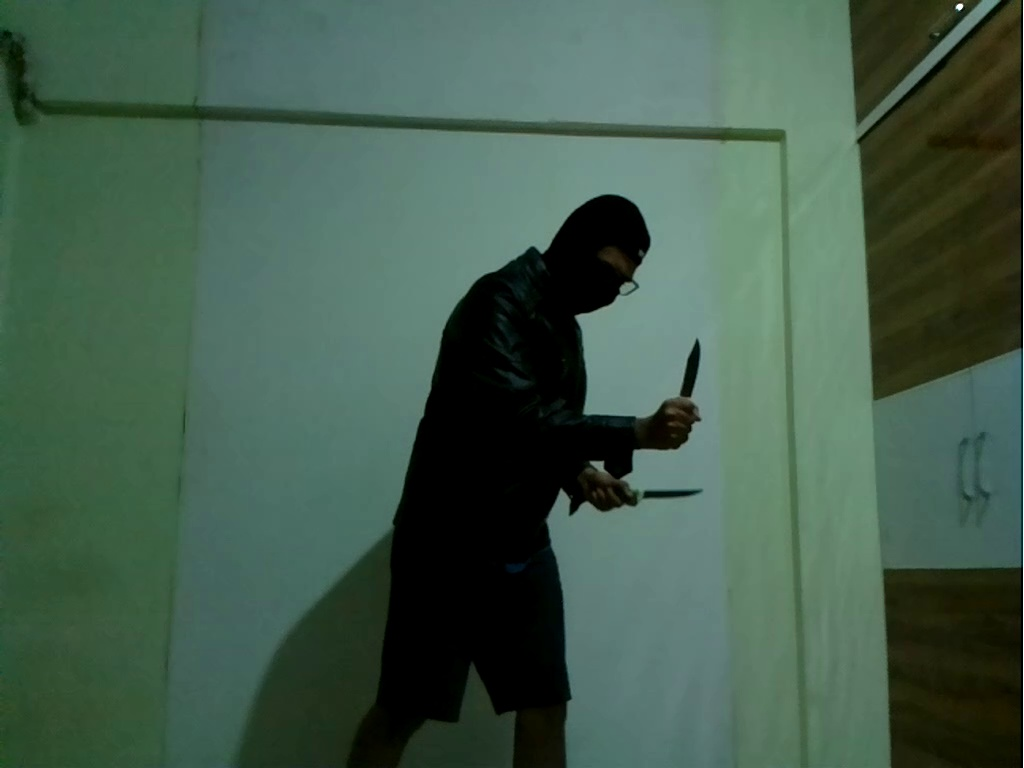knife: (675, 335, 713, 405), (624, 484, 711, 507)
